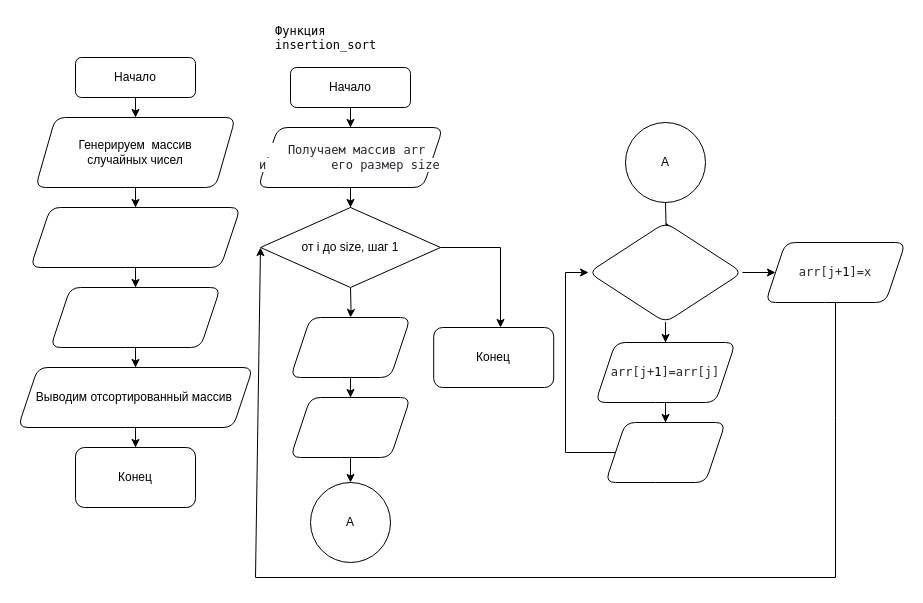
This 923x603 diagram has some shape labels left out. The shapes that lost their labels are listed below. From the top down, each one's centre as x and y in pixels, then its label:
At point (135, 237): "Выводим массив".
At point (665, 272): "j>=0 and arr[j]>x".
At point (135, 317): "вызываем функцию insertion_sort()".
At point (350, 347): "x = arr[i]".
At point (350, 427): "j = i - 1".
At point (665, 452): "j--".
